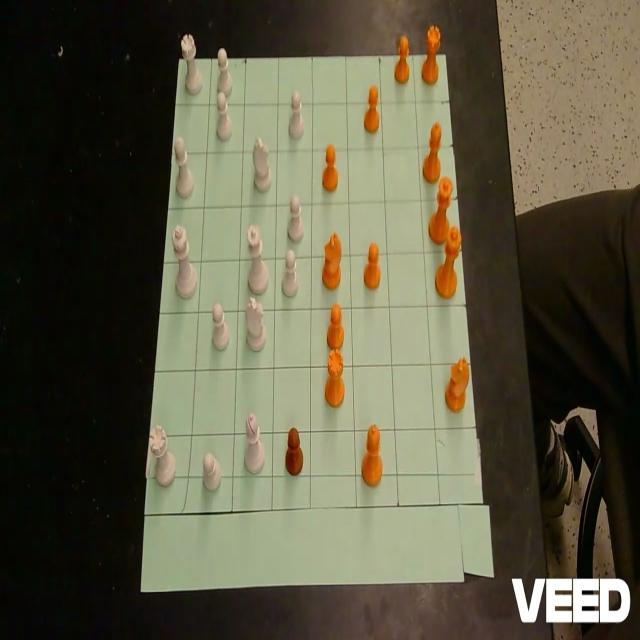orange_bishop: (361, 422, 383, 486), (423, 120, 442, 183)
orange_king: (435, 224, 462, 300)
orange_knight: (445, 355, 470, 413), (322, 229, 341, 288)
orange_pawn: (286, 428, 304, 476), (363, 241, 381, 289), (327, 300, 344, 350), (322, 140, 338, 191), (394, 34, 410, 84), (364, 84, 380, 133)
orange_queen: (428, 176, 452, 245)
orange_rook: (421, 23, 441, 84), (324, 347, 344, 406)
white_bishop: (244, 412, 265, 474), (174, 133, 194, 197)
white_king: (173, 222, 197, 296)
white_knight: (246, 292, 266, 350), (253, 135, 271, 191)
white_pawn: (211, 301, 230, 350), (288, 190, 304, 242), (288, 88, 304, 138), (216, 91, 232, 141), (202, 451, 221, 491), (217, 50, 232, 96), (282, 256, 298, 297)
white_queen: (247, 222, 268, 294)
white_rook: (151, 424, 175, 486), (182, 32, 202, 94)
